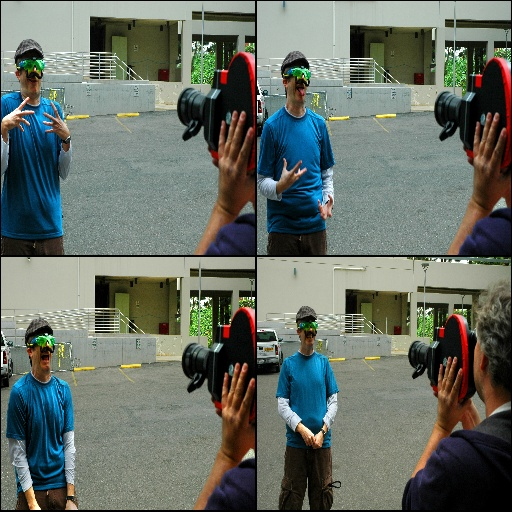hand: (204, 86, 255, 234), (471, 110, 511, 210), (220, 360, 255, 461), (436, 354, 465, 434), (3, 95, 34, 133), (42, 102, 69, 139), (278, 157, 307, 190), (318, 192, 332, 220), (302, 423, 315, 445), (462, 396, 470, 413), (315, 429, 322, 447), (64, 504, 78, 511), (33, 505, 40, 511)
